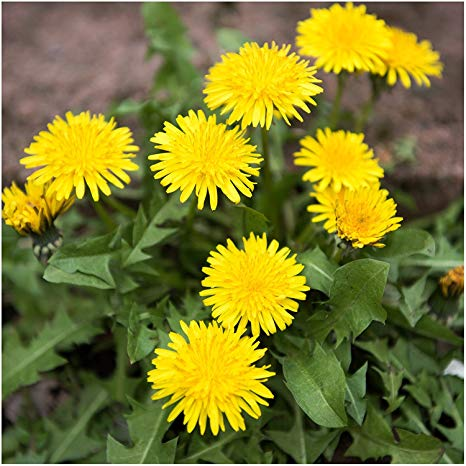dandelion: (142, 324, 269, 441), (199, 233, 310, 339), (36, 104, 141, 215), (292, 6, 442, 82), (155, 112, 260, 212), (201, 44, 317, 125), (310, 187, 415, 246), (293, 135, 388, 192)
